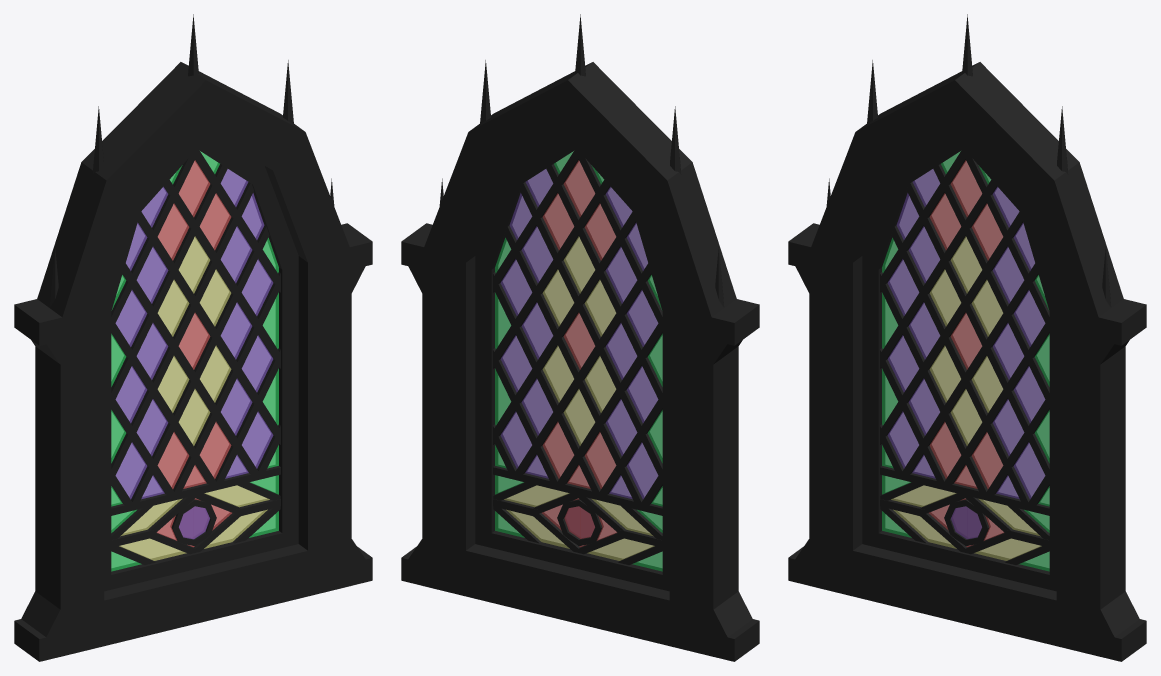
The model's file is MODEL_Environment_StainedGlassWindow_Blockout_1.fbx.
3 views of the same model, side by side, from view 1: azimuth 30°, elevation 25°; view 2: azimuth 150°, elevation 25°; view 3: azimuth 330°, elevation 25° (orthographic).
Visible parts, largest first — view 1: windowframe, glassframe, glass_pane41, glass_pane, glass_pane9, glass_pane13, glass_pane14, glass_pane20, glass_pane22, glass_pane25, glass_pane1, glass_pane3 (+22 smaller); view 2: windowframe, glassframe, glass_pane41, glass_pane, glass_pane9, glass_pane13, glass_pane14, glass_pane20, glass_pane22, glass_pane25, glass_pane1, glass_pane3 (+22 smaller); view 3: windowframe, glassframe, glass_pane41, glass_pane21, glass_pane, glass_pane8, glass_pane11, glass_pane17, glass_pane19, glass_pane24, glass_pane26, glass_pane1 (+22 smaller).
Boxes of the visible parts, box(x1,y1,x2,y2) form: windowframe: box(14, 14, 372, 661); glassframe: box(111, 149, 280, 564); glass_pane41: box(156, 498, 231, 547); glass_pane: box(178, 312, 210, 369); glass_pane9: box(241, 259, 273, 315); glass_pane13: box(115, 442, 147, 499); glass_pane14: box(157, 279, 189, 336); glass_pane20: box(136, 323, 168, 379); glass_pane22: box(136, 246, 168, 303); glass_pane25: box(221, 378, 252, 435); glass_pane1: box(178, 389, 210, 445); glass_pane3: box(178, 160, 210, 217); windowframe: box(401, 14, 759, 661); glassframe: box(493, 149, 662, 564); glass_pane41: box(542, 498, 617, 547); glass_pane: box(563, 312, 595, 369); glass_pane9: box(500, 259, 532, 315); glass_pane13: box(626, 442, 658, 499); glass_pane14: box(584, 279, 616, 336); glass_pane20: box(605, 323, 637, 379); glass_pane22: box(605, 246, 637, 303); glass_pane25: box(521, 378, 552, 435); glass_pane1: box(563, 389, 595, 445); glass_pane3: box(563, 160, 595, 217); windowframe: box(788, 14, 1146, 661); glassframe: box(880, 149, 1049, 564); glass_pane41: box(929, 498, 1004, 547); glass_pane21: box(908, 378, 939, 435); glass_pane: box(950, 312, 982, 369); glass_pane8: box(887, 259, 919, 315); glass_pane11: box(1013, 442, 1045, 499); glass_pane17: box(971, 432, 1003, 488); glass_pane19: box(971, 279, 1003, 336); glass_pane24: box(992, 323, 1024, 379); glass_pane26: box(992, 246, 1024, 303); glass_pane1: box(950, 389, 982, 445).
Bounding box in the file's own units: 2.29 × 3.93 × 0.3.
